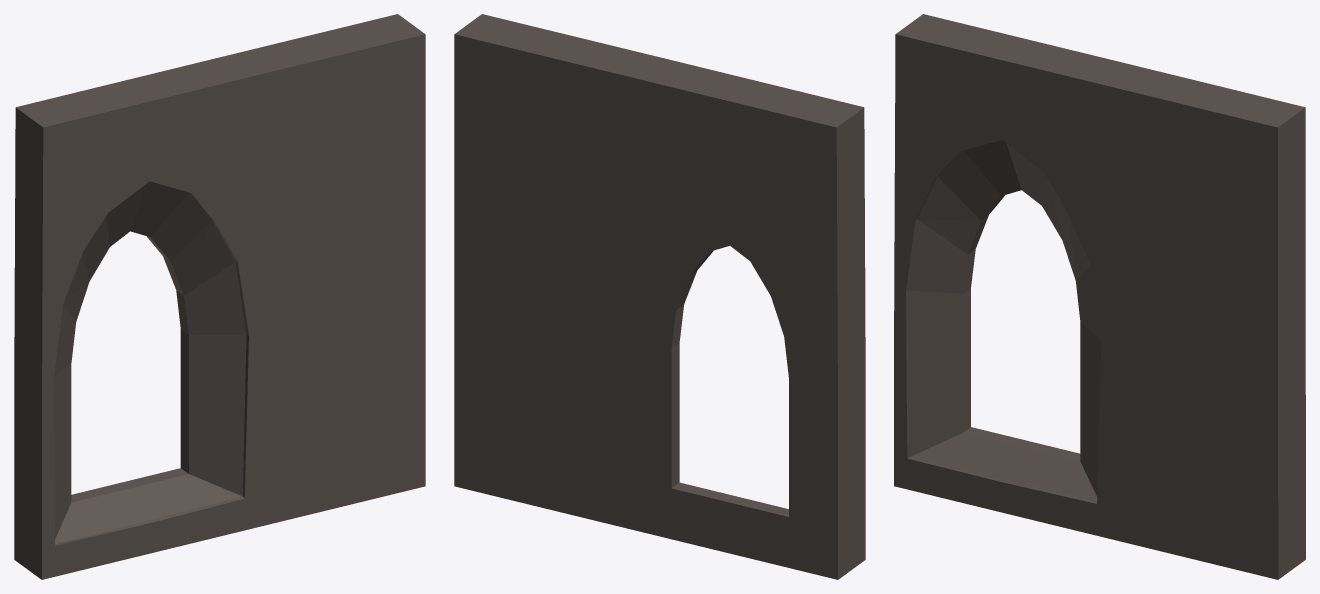
The model's file is MCastle_SquareWalls_22.FBX.
3 views of the same model, side by side, from view 1: azimuth 30°, elevation 25°; view 2: azimuth 150°, elevation 25°; view 3: azimuth 330°, elevation 25° (orthographic).
Parts seen in each view (by area): view 1: MCastle_SquareWalls_22; view 2: MCastle_SquareWalls_22; view 3: MCastle_SquareWalls_22.
Boxes of the visible parts, x1,y1,x2,y2 form: MCastle_SquareWalls_22: (14, 14, 425, 579); MCastle_SquareWalls_22: (454, 14, 865, 579); MCastle_SquareWalls_22: (894, 14, 1305, 579).
Size of the model in its own units: 4 by 4.5 by 0.5002.
